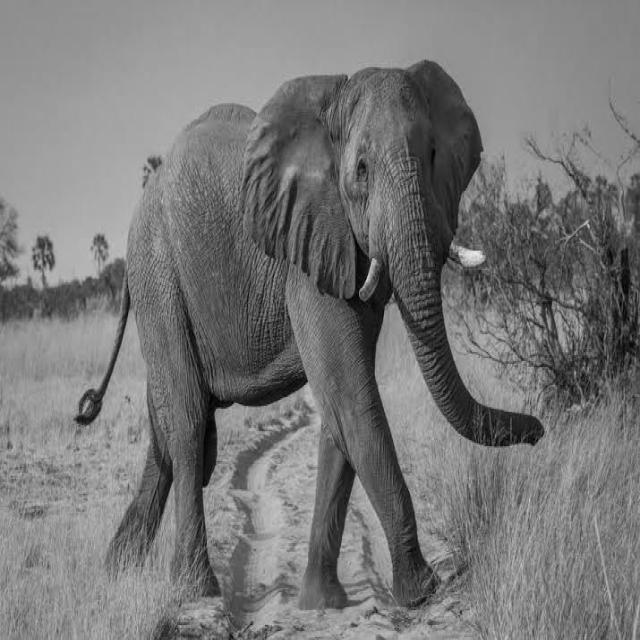Elephant: (73, 58, 544, 610)
